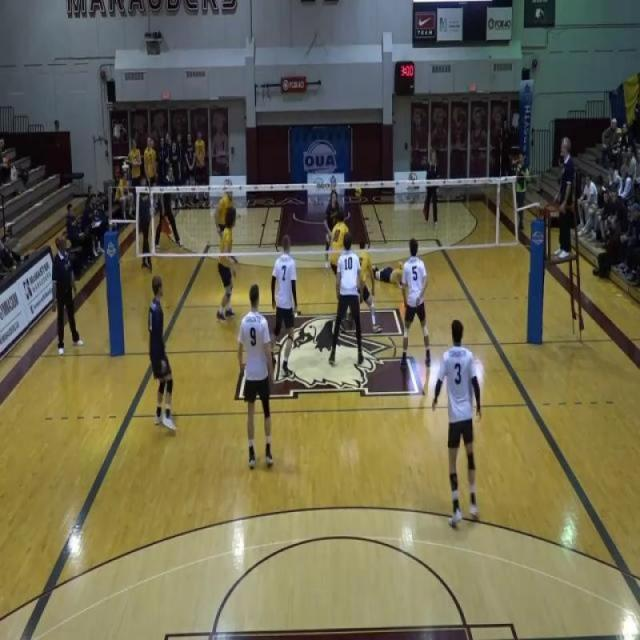volleyball: (354, 187, 362, 198)
